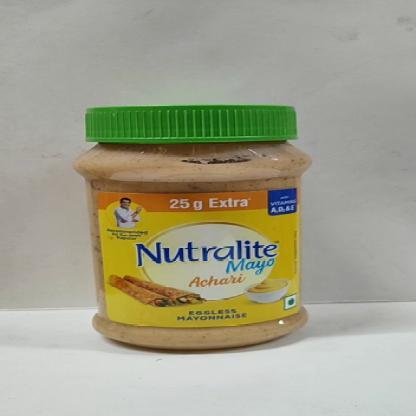Nutralite ACHARI MAYO 300g-275g-25g-: (70, 106, 310, 354)
